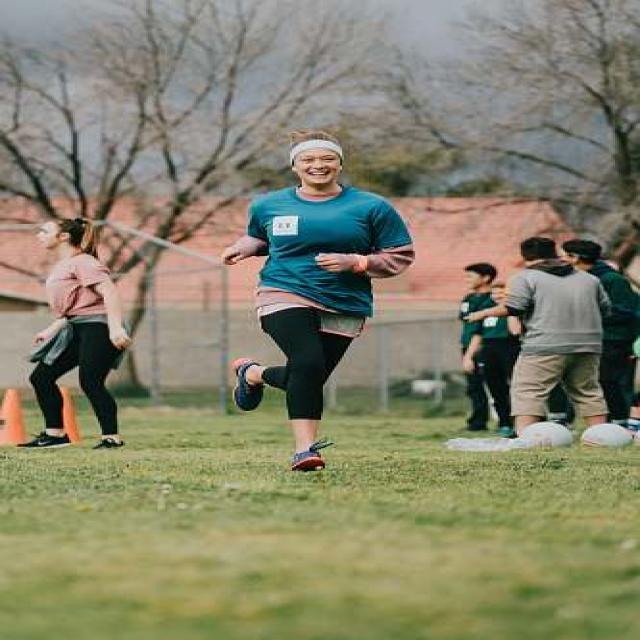running: (228, 136, 421, 474)
